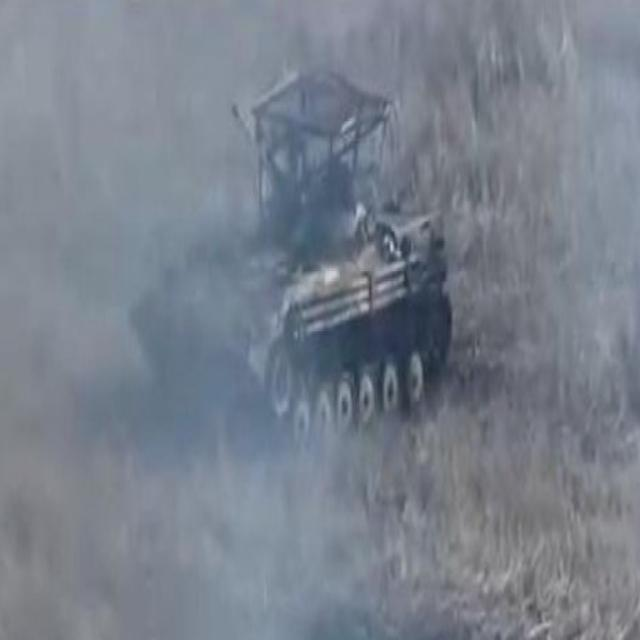APC-IFV: (126, 71, 452, 445)
